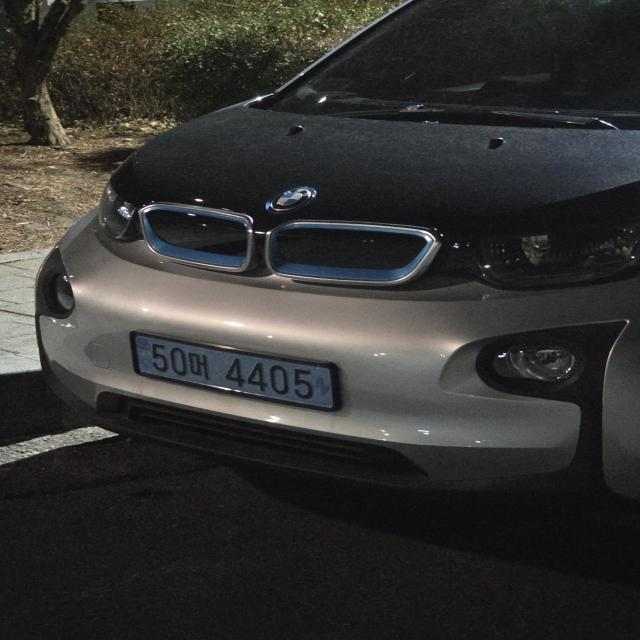car: (123, 322, 375, 422)
carev: (310, 366, 336, 410), (130, 332, 152, 377)
